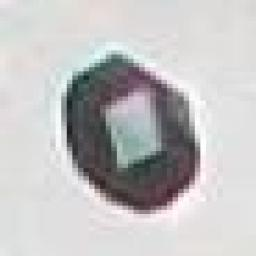crystals: (58, 48, 201, 216)
